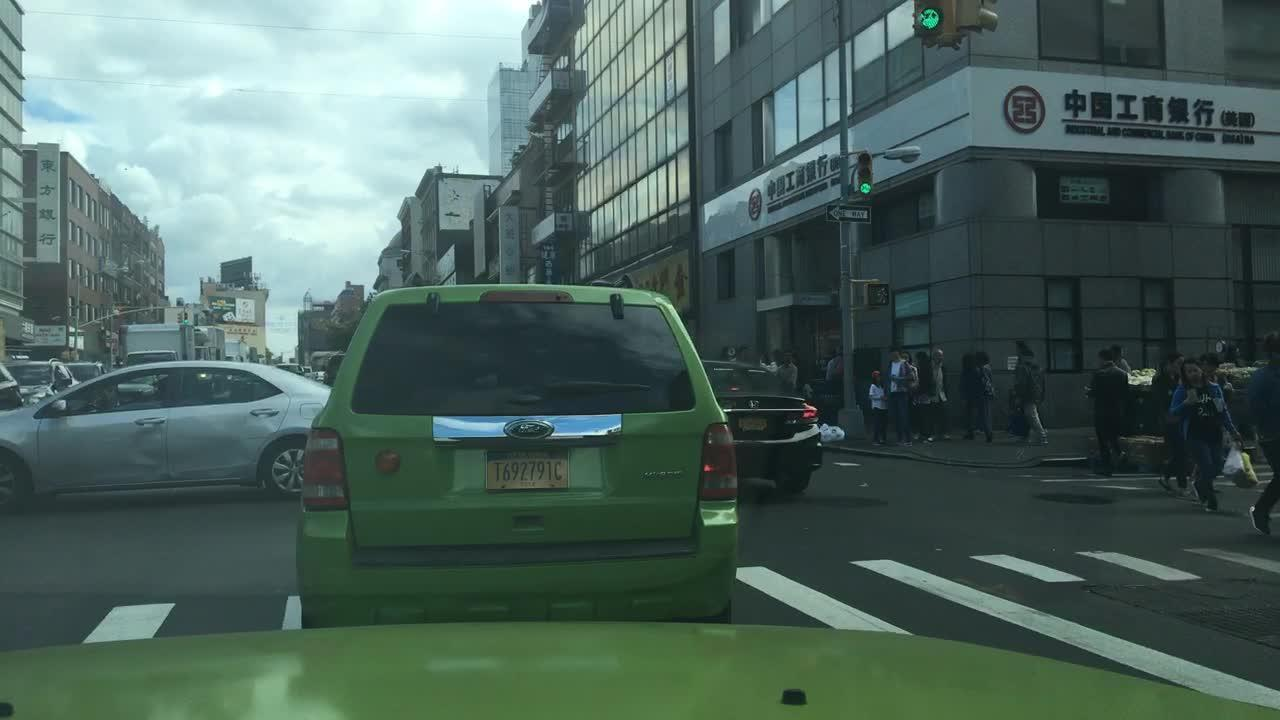ford: (497, 408, 569, 453)
